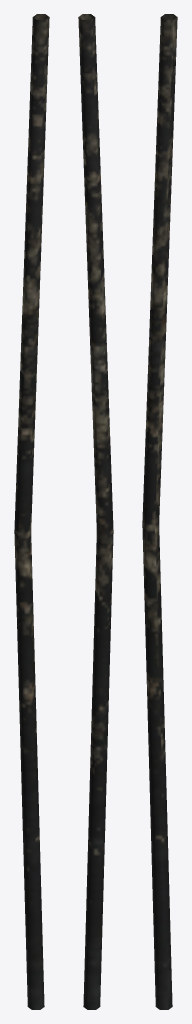
Rendered from SingleBlackCase_Lobby.FBX.
The picture shows the model from 3 angles, left to right: view 1: azimuth 30°, elevation 25°; view 2: azimuth 150°, elevation 25°; view 3: azimuth 330°, elevation 25°; orthographic projection.
Visible parts, largest first — view 1: SingleBlackCase_Lobby; view 2: SingleBlackCase_Lobby; view 3: SingleBlackCase_Lobby.
Part boxes in pixels (box(x1,y1,x2,y2)): SingleBlackCase_Lobby: box(14, 14, 49, 1009); SingleBlackCase_Lobby: box(78, 14, 113, 1009); SingleBlackCase_Lobby: box(142, 14, 177, 1009).
Bounding box in the file's own units: 4.47 × 137 × 2.1.
